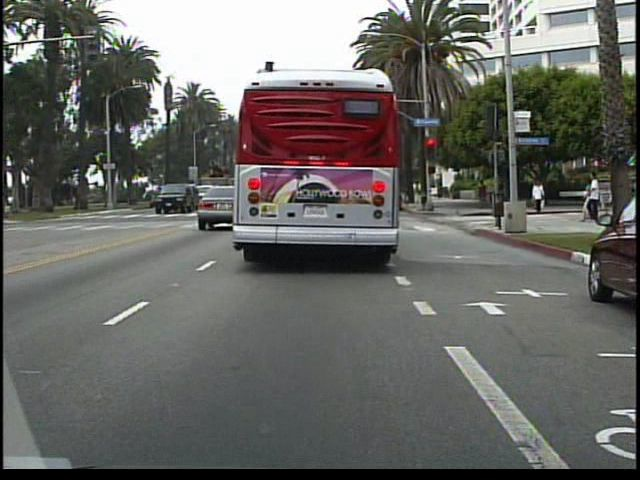person: (582, 170, 605, 227), (476, 173, 492, 213), (531, 178, 547, 216), (528, 177, 543, 212)
